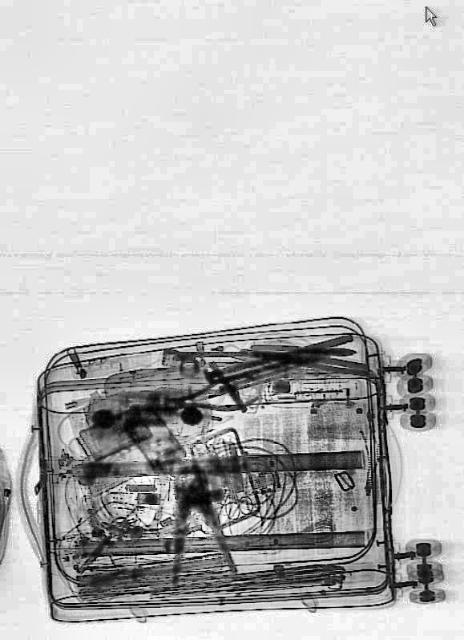Pliers: (158, 460, 236, 588), (154, 358, 258, 426), (266, 339, 368, 376)
